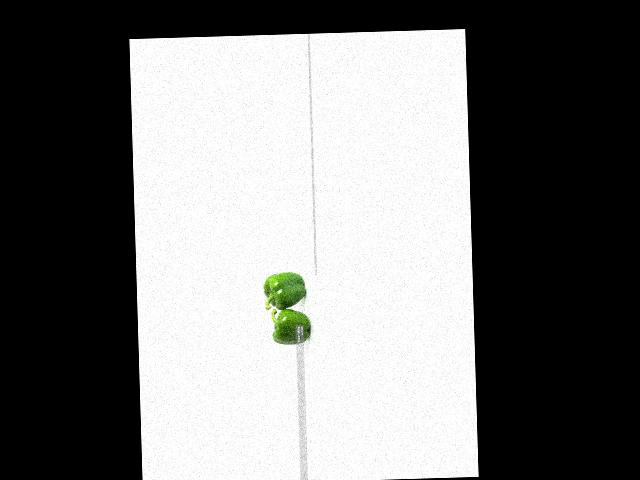bell_pepper: (260, 271, 312, 309)
